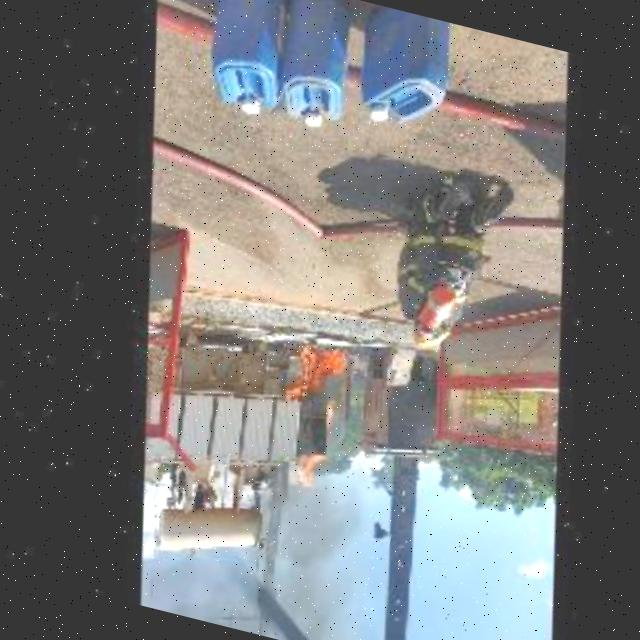fire: (273, 337, 359, 413), (283, 446, 332, 498)
